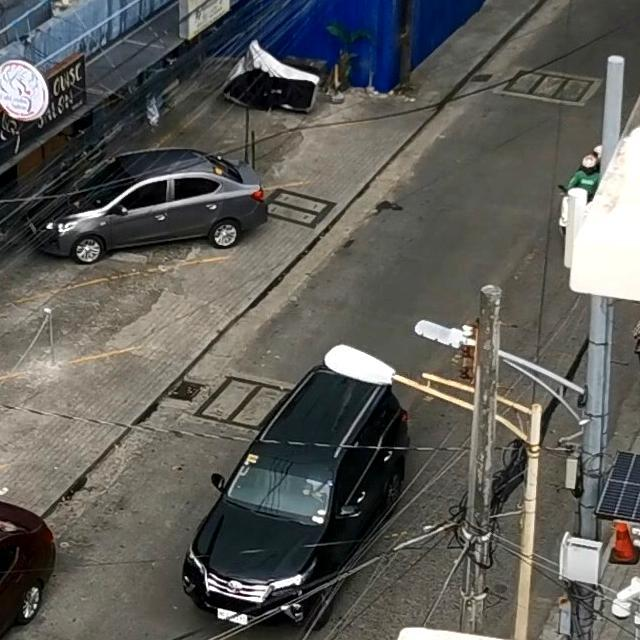Car: (190, 353, 408, 628), (30, 148, 261, 264)
